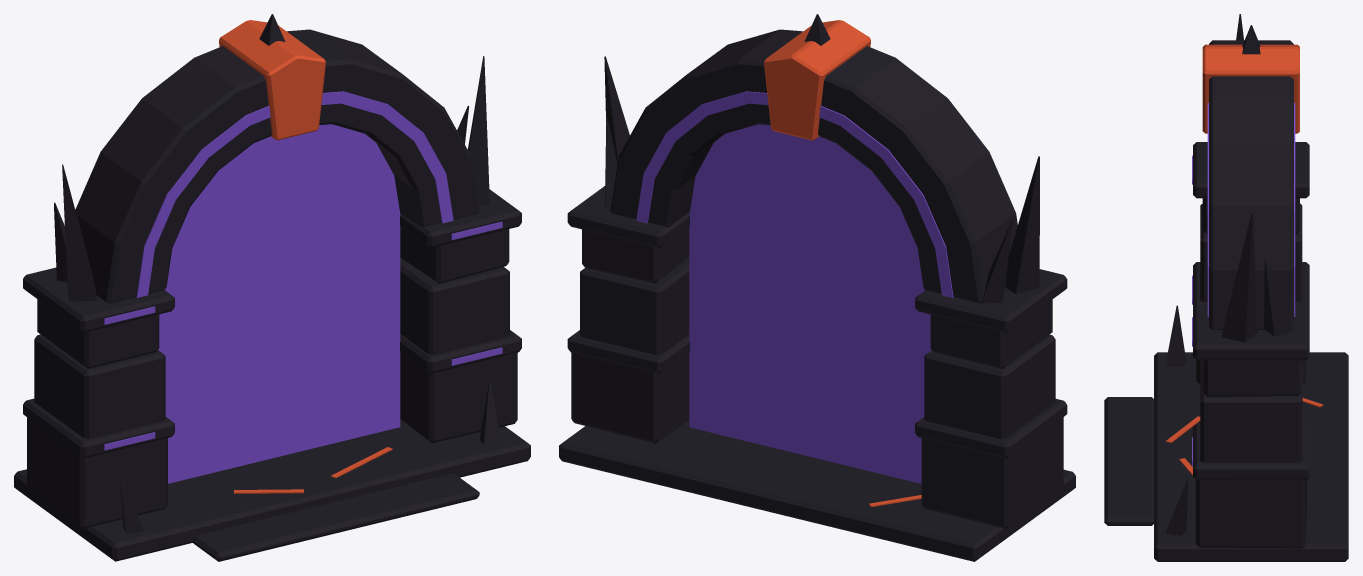
File: portal_gate.obj
3 renders of one model, left to right at view 1: azimuth 30°, elevation 25°; view 2: azimuth 150°, elevation 25°; view 3: azimuth 270°, elevation 25°, orthographic. The views are drawn at different scales.
Visible parts, largest first — view 1: portal_gate; view 2: portal_gate; view 3: portal_gate.
Boxes of the visible parts, x1=… form: portal_gate: x1=14, y1=14, x2=530, y2=561; portal_gate: x1=559, y1=14, x2=1075, y2=561; portal_gate: x1=1104, y1=14, x2=1348, y2=561.
Bounding box in the file's own units: 4.01 × 4 × 2.01.
